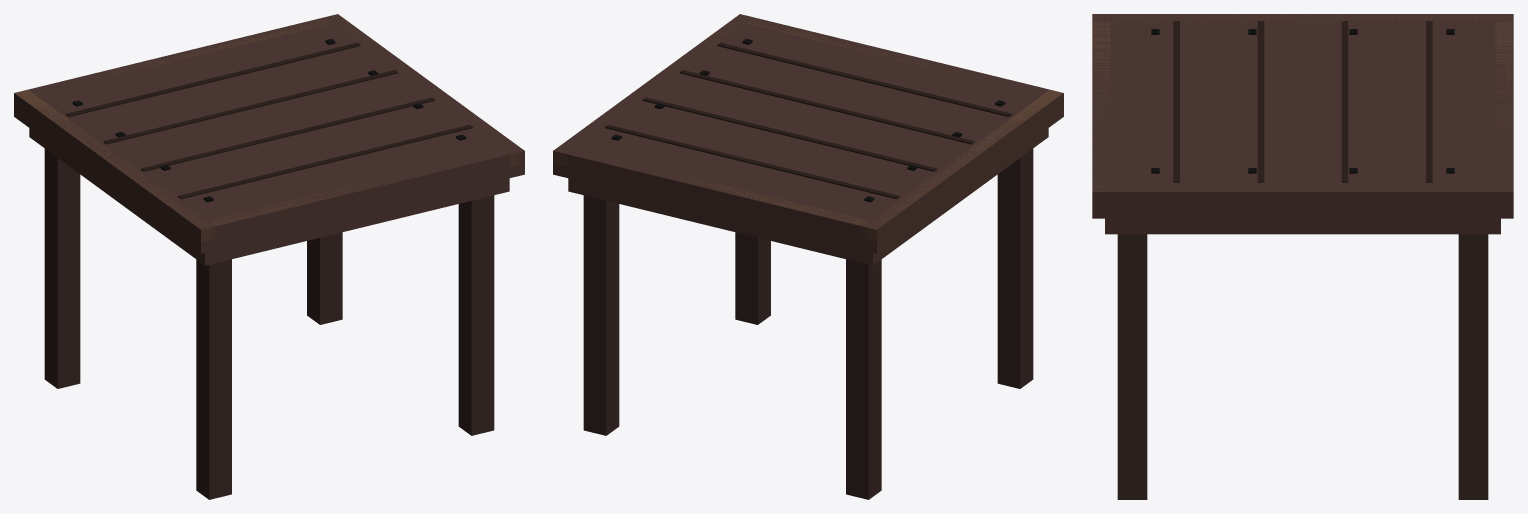
File: CMU3DPoorWoodTable.glb
3 views of the same model, side by side, from view 1: azimuth 30°, elevation 25°; view 2: azimuth 150°, elevation 25°; view 3: azimuth 270°, elevation 25° (orthographic). The views are drawn at different scales.
Parts seen in each view (by area): view 1: tabletop inset, corner leg (×4), underframe, dark plank seam (×4), side perimeter edge, end perimeter edge (×2); view 2: tabletop inset, corner leg (×4), underframe, dark plank seam (×4), side perimeter edge, end perimeter edge (×2); view 3: tabletop inset, corner leg (×2), underframe, dark plank seam (×4), end perimeter edge (×2), side perimeter edge.
Boxes of the visible parts, x1=… form: tabletop inset: x1=14, y1=14, x2=524, y2=253; corner leg (×4): x1=44, y1=148, x2=494, y2=499; underframe: x1=29, y1=128, x2=509, y2=265; dark plank seam (×4): x1=66, y1=42, x2=472, y2=199; side perimeter edge: x1=15, y1=89, x2=214, y2=241; end perimeter edge (×2): x1=78, y1=18, x2=425, y2=225; tabletop inset: x1=553, y1=14, x2=1063, y2=253; corner leg (×4): x1=583, y1=148, x2=1033, y2=499; underframe: x1=568, y1=128, x2=1048, y2=265; dark plank seam (×4): x1=605, y1=42, x2=1011, y2=199; side perimeter edge: x1=863, y1=89, x2=1062, y2=241; end perimeter edge (×2): x1=618, y1=18, x2=971, y2=225; tabletop inset: x1=1092, y1=14, x2=1513, y2=218; corner leg (×2): x1=1117, y1=234, x2=1488, y2=499; underframe: x1=1105, y1=218, x2=1500, y2=234; dark plank seam (×4): x1=1173, y1=21, x2=1432, y2=182; end perimeter edge (×2): x1=1093, y1=22, x2=1512, y2=181; side perimeter edge: x1=1094, y1=14, x2=1513, y2=21.
Size of the model in its own units: 1 by 0.842 by 1.
